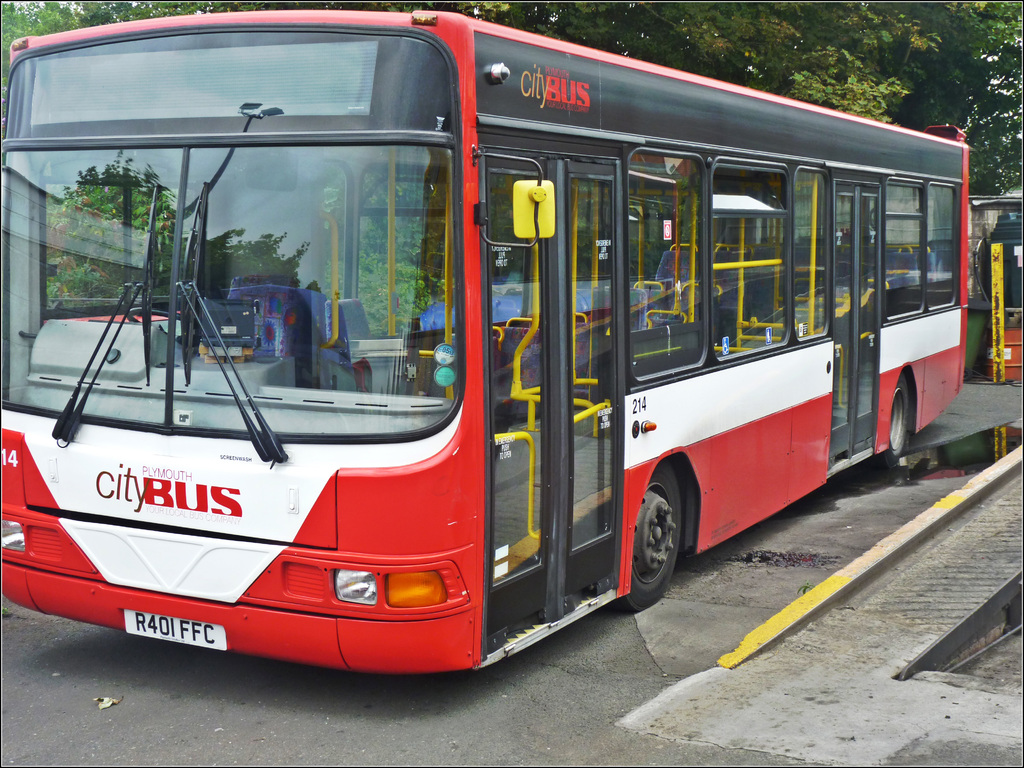Bus: (0, 6, 970, 670)
